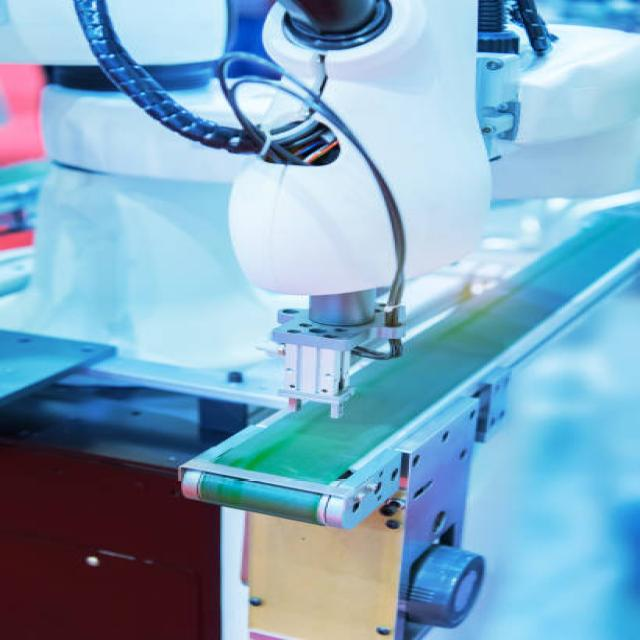Robotic-arm: (0, 1, 490, 377)
